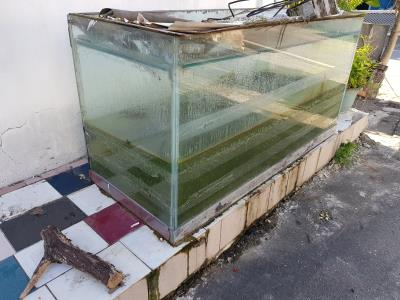aquarium: (62, 3, 366, 250)
